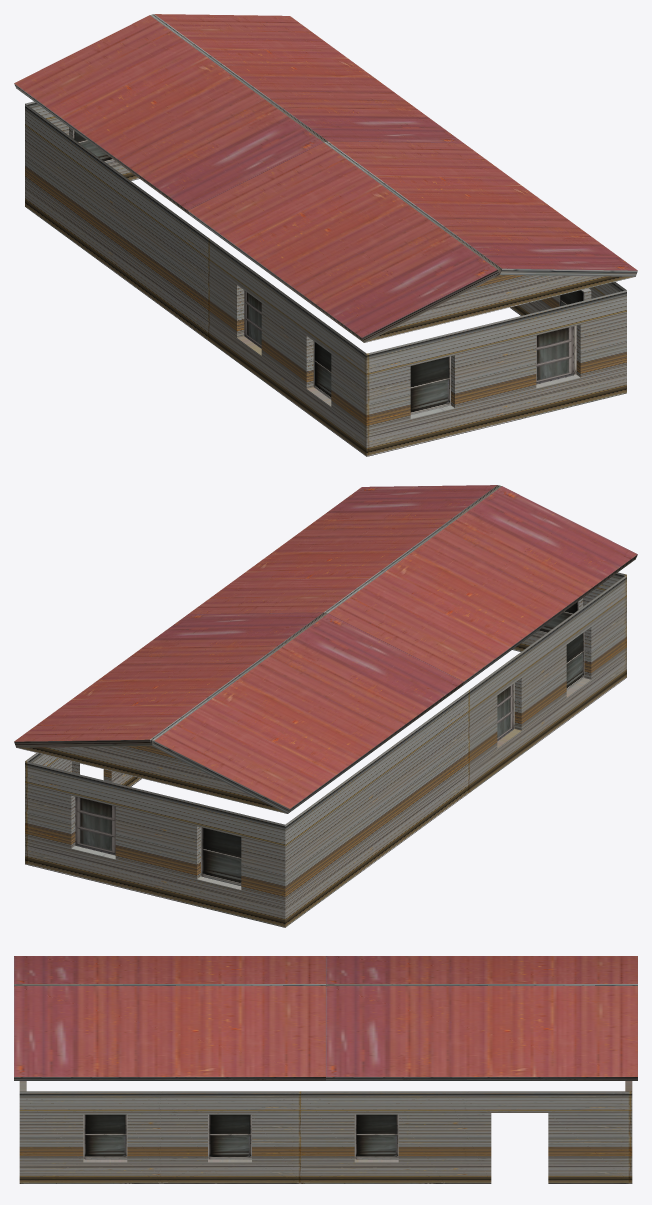
File: rural_unmobilehome_1_rural_trailer_stuff_1_0.glb
3 views of the same model, one above another, from view 1: azimuth 30°, elevation 25°; view 2: azimuth 150°, elevation 25°; view 3: azimuth 270°, elevation 25° (orthographic). The views are drawn at different scales.
Parts seen in each view (by area): view 1: Rural_UnmobileHome_1_Rural_Trailer_Stuff_1_0; view 2: Rural_UnmobileHome_1_Rural_Trailer_Stuff_1_0; view 3: Rural_UnmobileHome_1_Rural_Trailer_Stuff_1_0.
Boxes of the visible parts, x1=… form: Rural_UnmobileHome_1_Rural_Trailer_Stuff_1_0: x1=14, y1=14, x2=637, y2=456; Rural_UnmobileHome_1_Rural_Trailer_Stuff_1_0: x1=14, y1=485, x2=637, y2=927; Rural_UnmobileHome_1_Rural_Trailer_Stuff_1_0: x1=14, y1=956, x2=637, y2=1183.
Size of the model in its own units: 3.7 by 2.18 by 8.08.
Materials: 1 (1 with a texture image).
